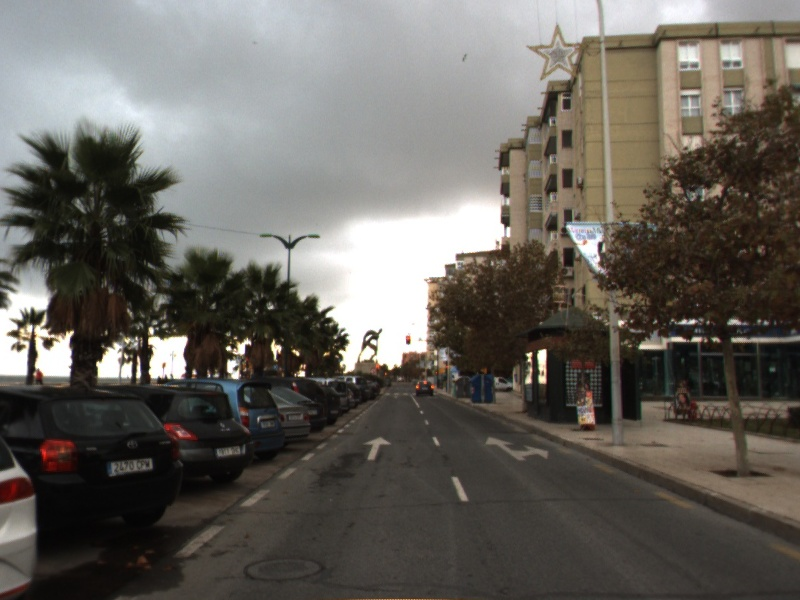STRAIGHT: (361, 435, 393, 461)
STRAIGHT_RIGHT: (484, 435, 550, 462)
